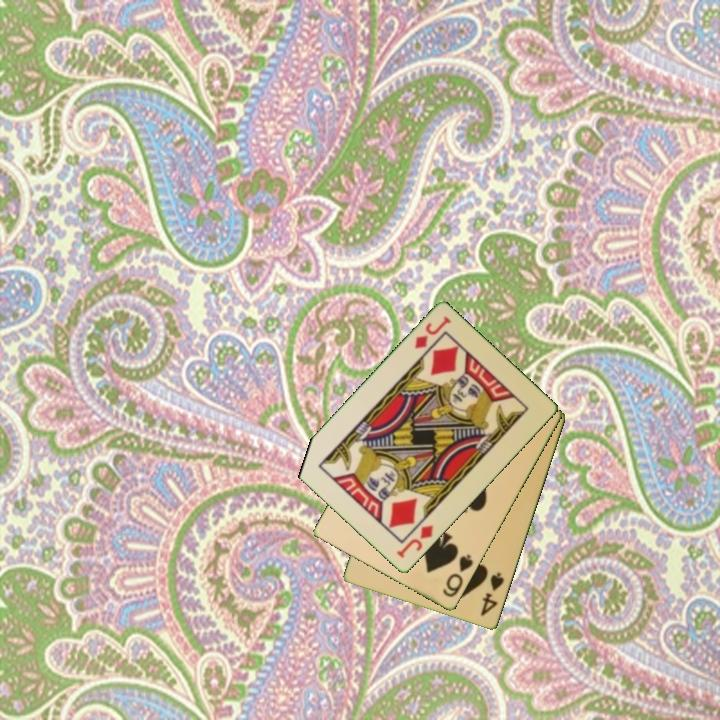4s: (477, 569, 507, 619)
6s: (439, 551, 476, 601)
Jd: (393, 522, 436, 561), (411, 313, 454, 352)
